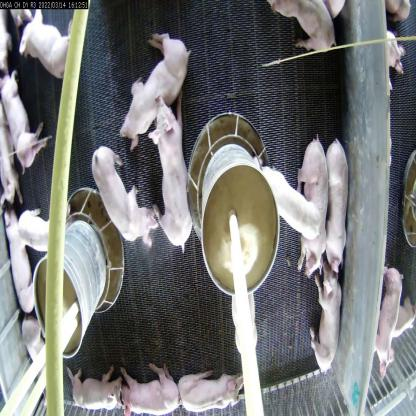Pig: (88, 130, 156, 248), (116, 30, 186, 143), (254, 155, 318, 257), (149, 88, 193, 236), (289, 128, 320, 280), (0, 202, 40, 308), (116, 363, 179, 416), (168, 367, 235, 415), (19, 26, 74, 84), (3, 82, 42, 159), (326, 132, 347, 275), (70, 365, 119, 416), (316, 271, 340, 358), (11, 198, 50, 249)
